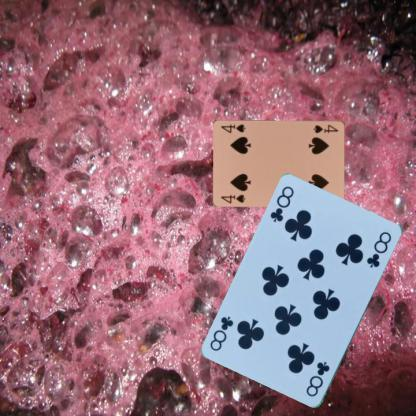4s: (218, 192, 247, 204), (312, 122, 339, 134)
8c: (268, 184, 296, 224), (303, 358, 330, 399)
